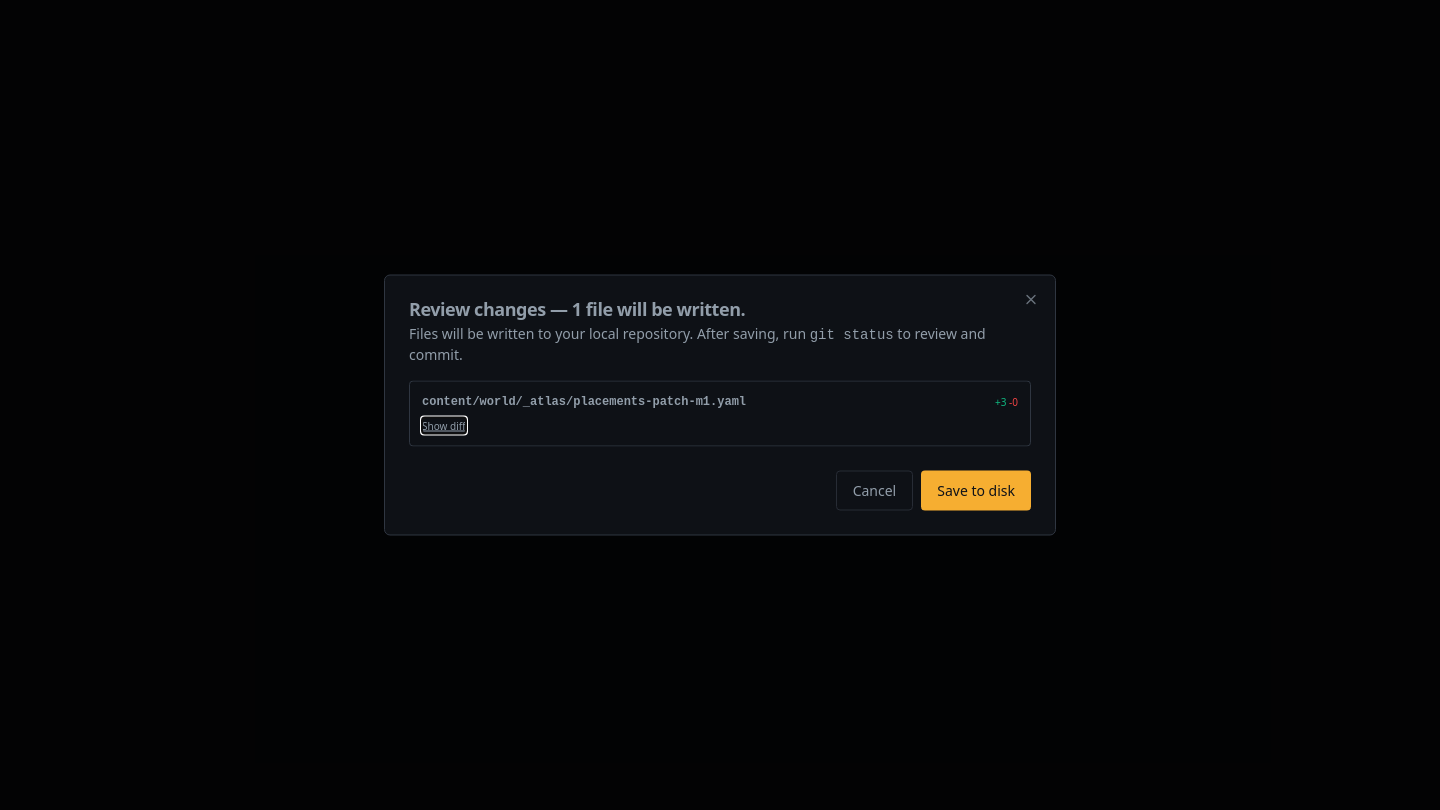
Test case: DiffPreviewModal › DisallowedPathError renders allowlist message and offending path
Click the button "Save to disk". click: (976, 490)
box: [921,470,1031,510]
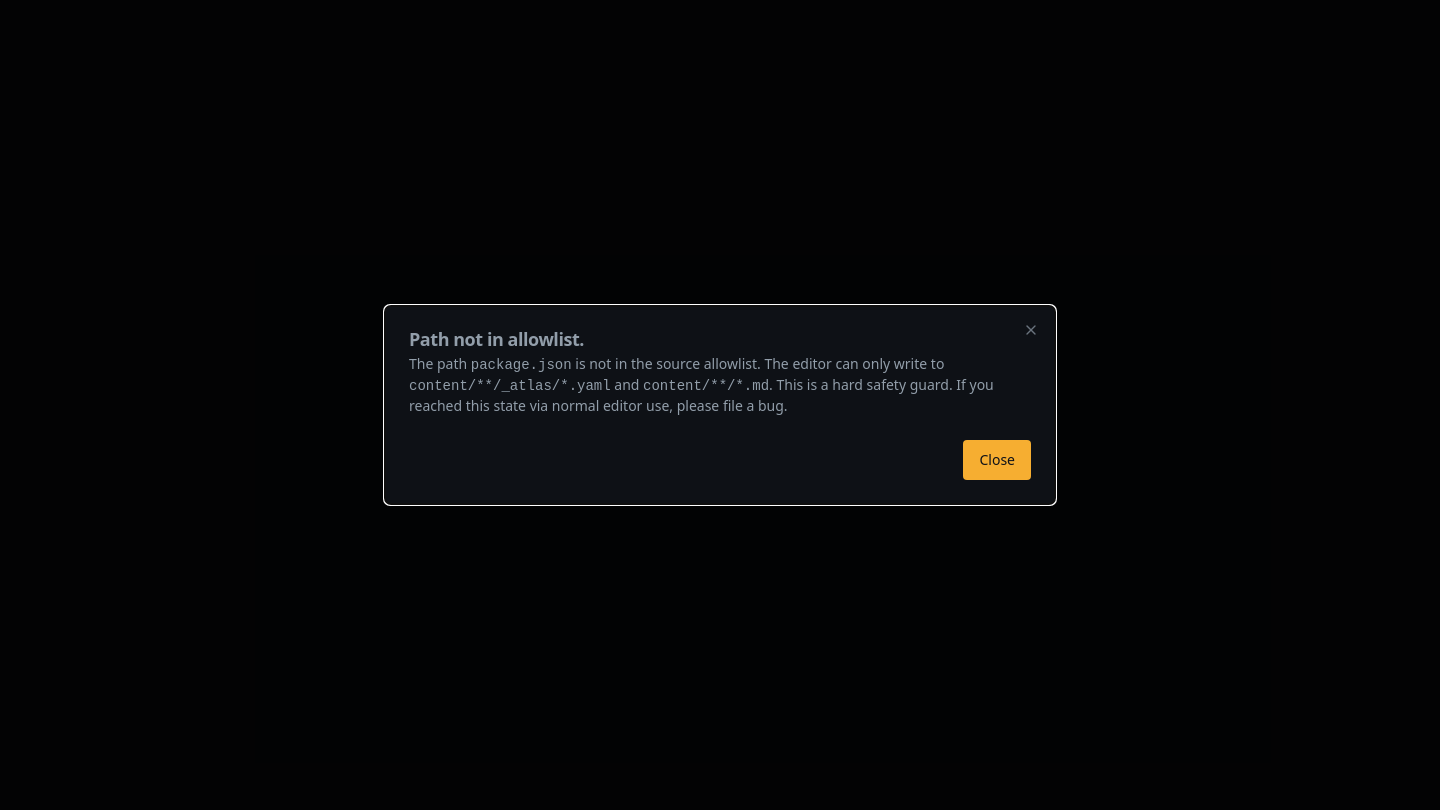
Result: the heading "Path not in allowlist." is shown at [409,327,584,351]
Result: the text "not in the source allowlist" is shown at [572,354,944,373]
Result: the text "package.json" is shown at [471,357,572,373]
